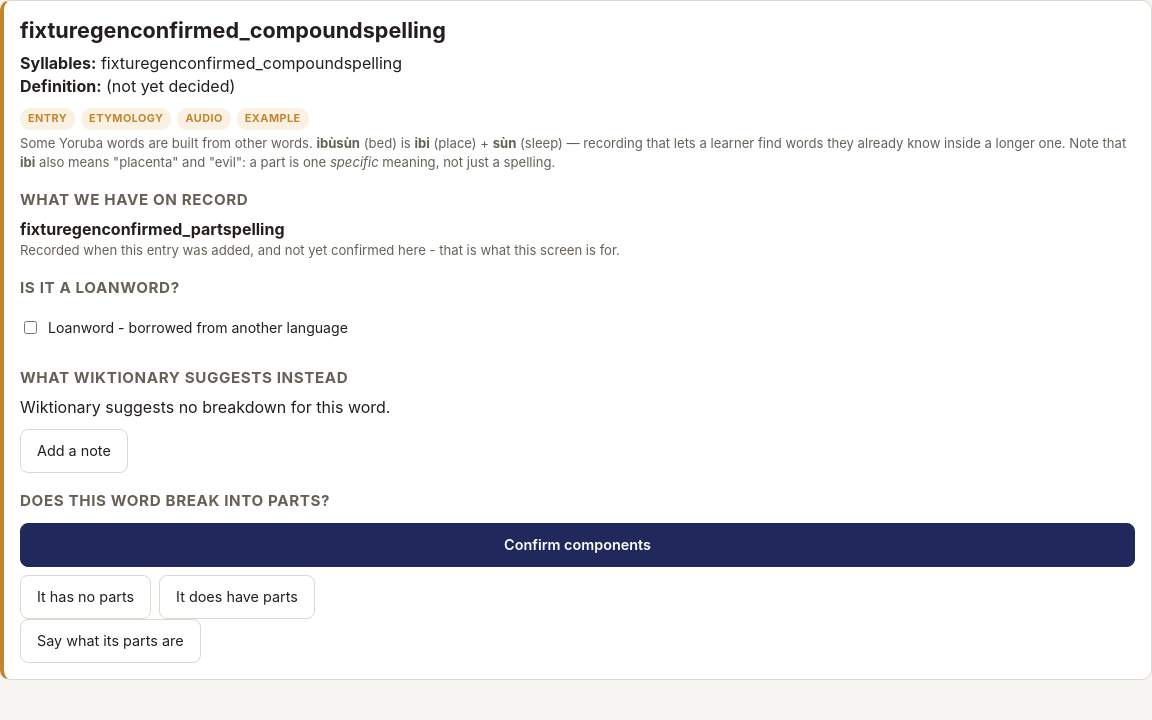
EtymologyReview › pre-seeds the manual draft from real existing components (not a self-referencing atomic chip)
The image size is (1152, 720).
Expected: the heading "fixturegenconfirmed_compoundspelling" is shown, [20,17,446,43]
Click the button "Say what its parts are" at (110, 641), box [20,619,201,663]
(page scrolled)
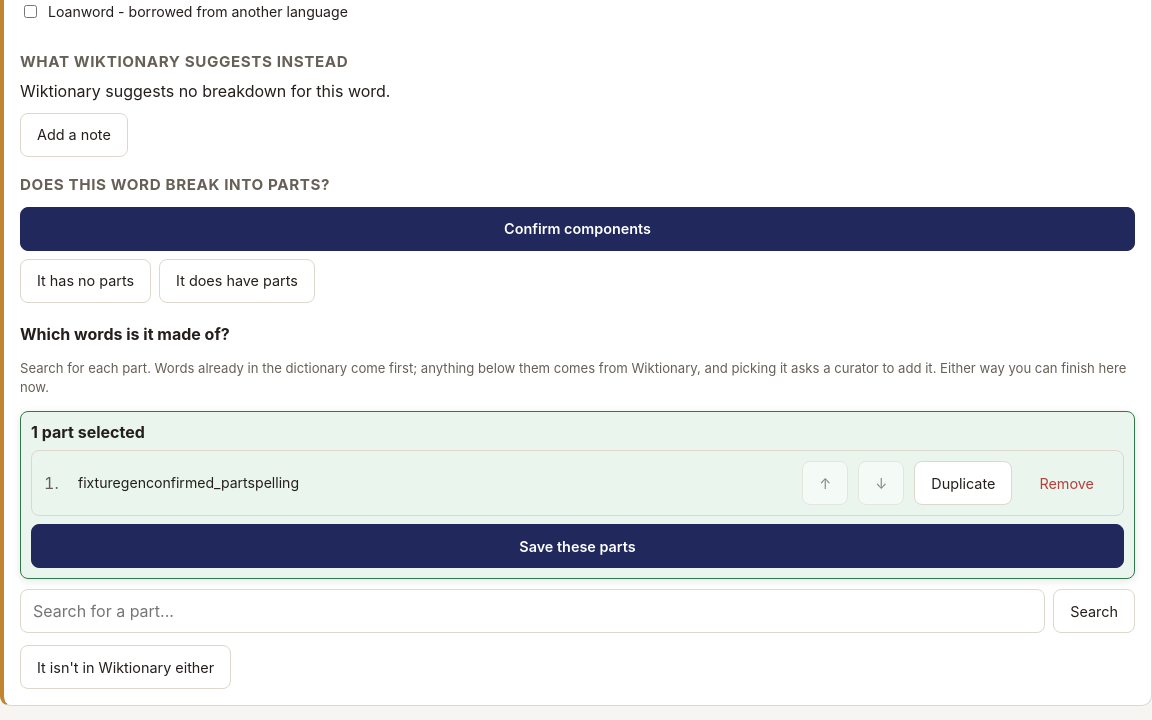
Expected: the list named "Draft components" does not show "fixturegenconfirmed_part_word", [31,450,1124,516]
Now the list named "Draft components" shows "fixturegenconfirmed_partspelling", box [78,474,299,491]
